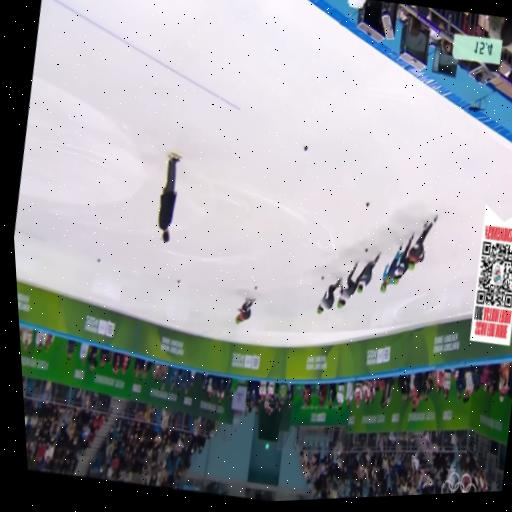Skater: (409, 215, 438, 270), (337, 262, 364, 308), (393, 233, 414, 284), (381, 244, 402, 292), (357, 252, 381, 292), (317, 279, 341, 313), (235, 299, 254, 323)
